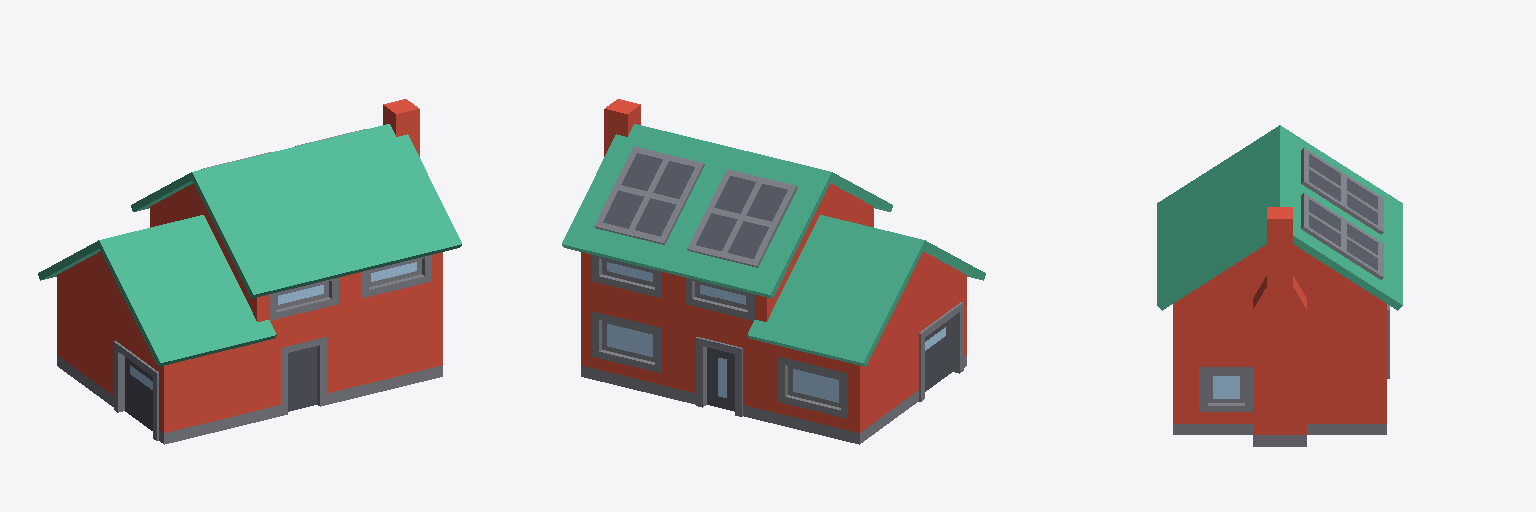
Rendered from city_house_h.obj.
The picture shows the model from 3 angles: view 1: azimuth 30°, elevation 25°; view 2: azimuth 150°, elevation 25°; view 3: azimuth 270°, elevation 25°; orthographic projection.
Parts seen in each view (by area): view 1: mergedBlocks; view 2: mergedBlocks; view 3: mergedBlocks.
Part boxes in pixels (x1,y1,x2,y2): mergedBlocks: (38,99,461,444); mergedBlocks: (562,99,985,444); mergedBlocks: (1157,125,1402,446).
Bounding box in the file's own units: 0.864 × 0.6 × 0.5862.